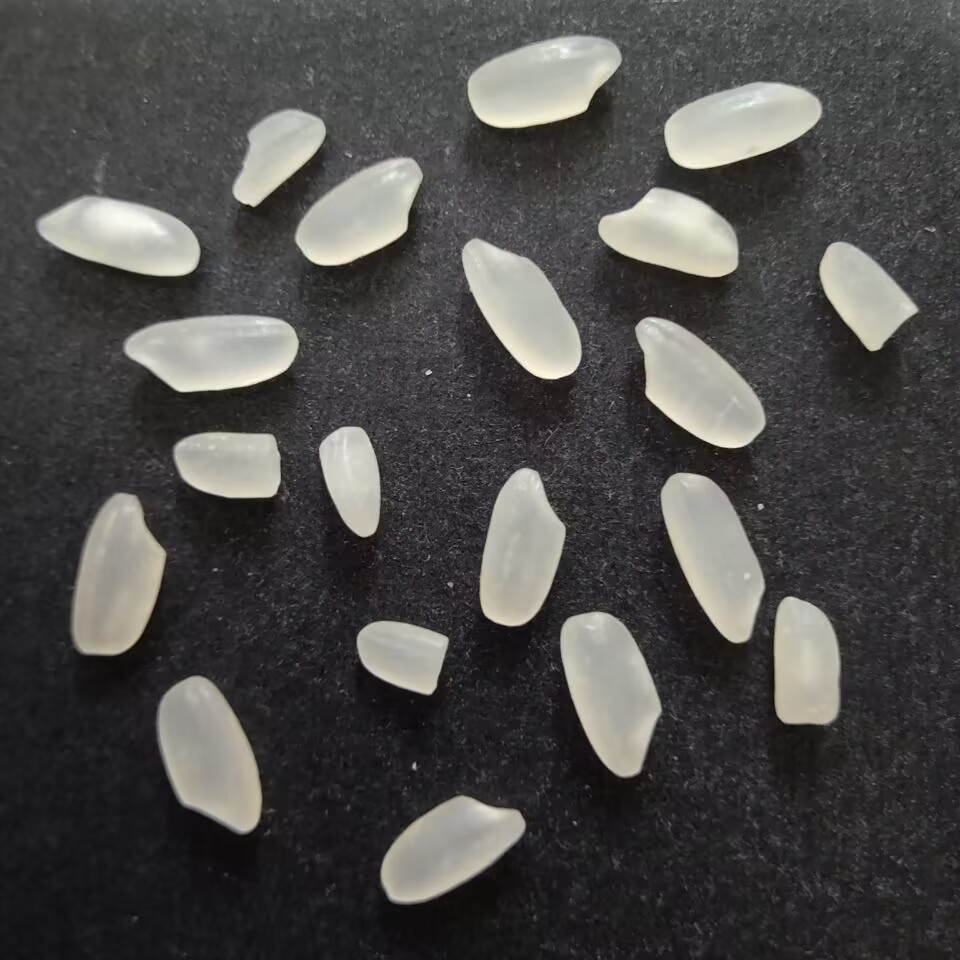broken: (814, 237, 921, 356), (230, 104, 332, 210), (768, 592, 844, 731), (165, 426, 295, 505), (348, 617, 454, 701), (311, 424, 386, 540)
rice: (628, 312, 770, 451), (657, 468, 764, 643), (458, 236, 585, 380), (559, 611, 667, 779), (152, 676, 262, 837), (376, 792, 528, 908), (69, 488, 168, 659), (118, 310, 300, 398), (463, 34, 623, 132), (477, 463, 568, 629), (664, 80, 825, 173), (294, 154, 427, 266), (28, 193, 204, 277), (593, 183, 738, 281)
